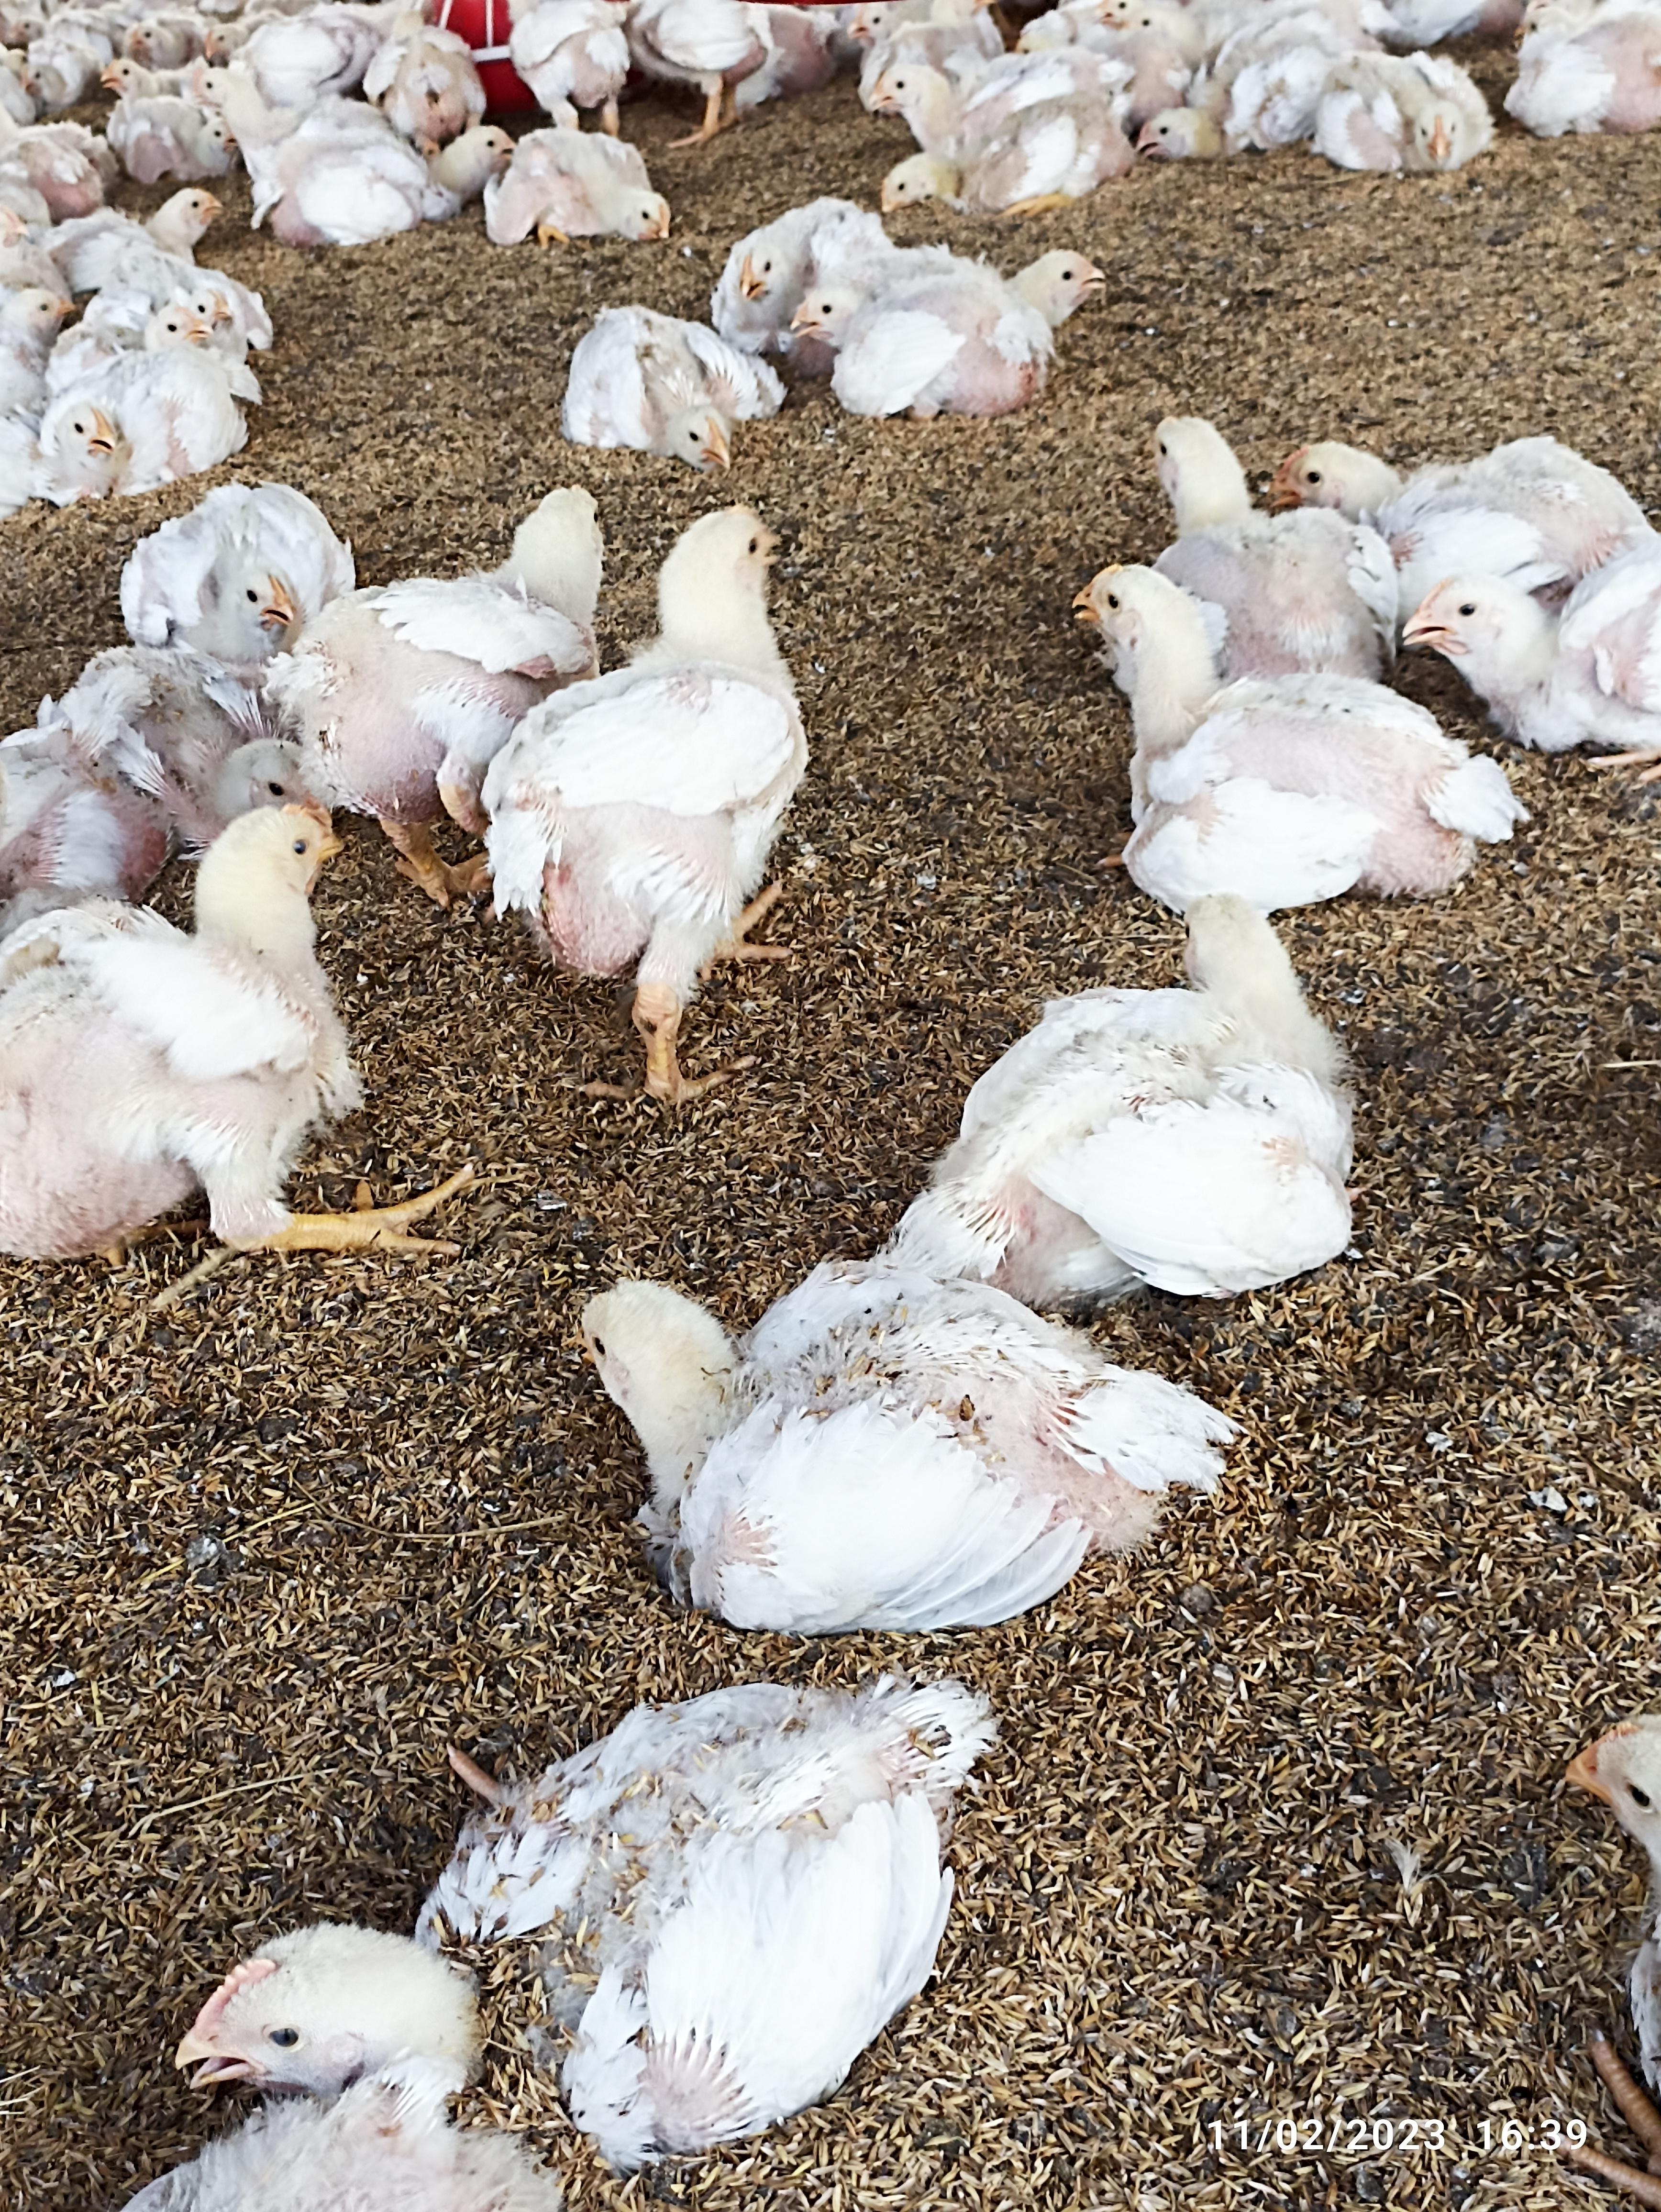Pollos: (180, 1656, 1028, 2179), (576, 1272, 1230, 1608), (902, 883, 1354, 1305), (0, 776, 370, 1251), (504, 492, 818, 972), (1082, 563, 1490, 890), (2, 300, 262, 525), (1422, 525, 1661, 762), (1132, 401, 1398, 611), (113, 473, 342, 672), (262, 101, 515, 260), (782, 270, 1054, 415), (541, 286, 794, 441), (862, 68, 1129, 192), (1136, 0, 1331, 152), (1317, 33, 1516, 176), (56, 176, 208, 293), (529, 131, 684, 242)
